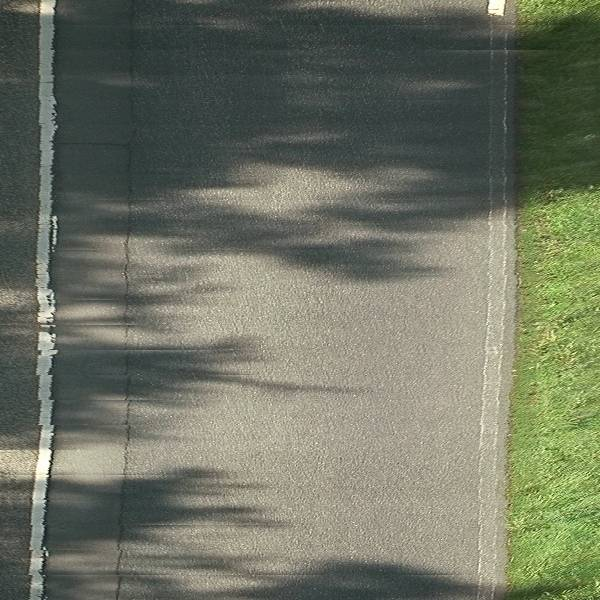road_damage: (103, 121, 149, 600)
